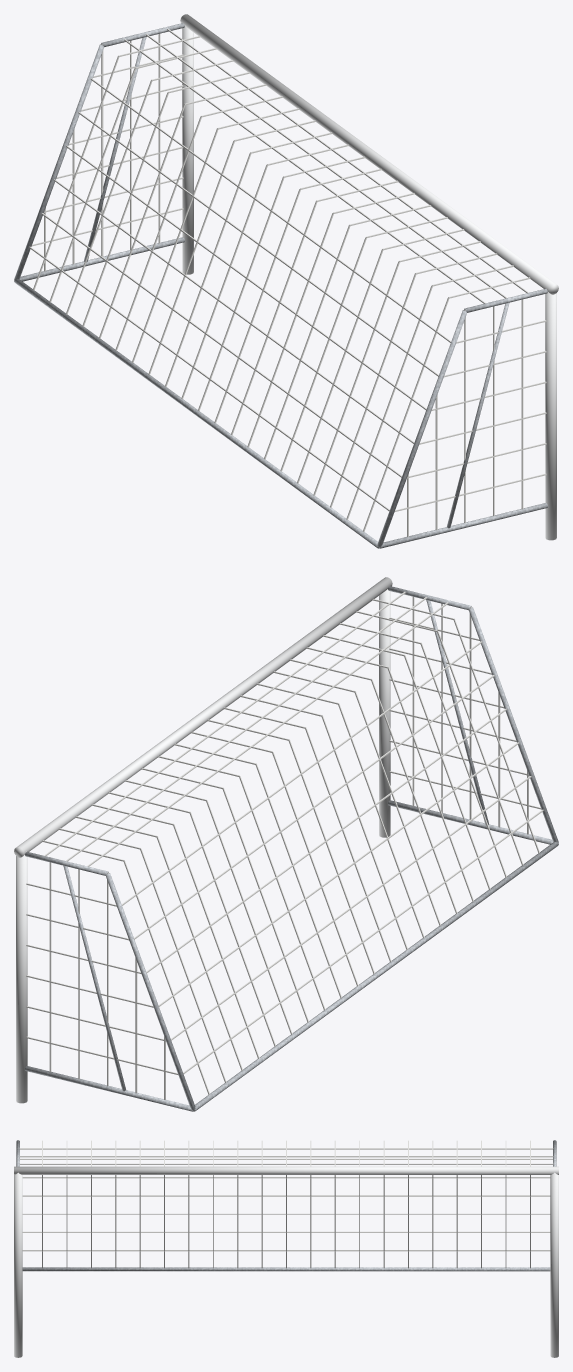
The model's file is soccer_goal_full.glb.
3 renders of one model, top to bottom at view 1: azimuth 30°, elevation 25°; view 2: azimuth 150°, elevation 25°; view 3: azimuth 270°, elevation 25°, orthographic. The views are drawn at different scales.
Parts seen in each view (by area): view 1: soccer_goal_full_net, soccer_goal_full_frame, soccer_goal_full_stanchions; view 2: soccer_goal_full_net, soccer_goal_full_frame, soccer_goal_full_stanchions; view 3: soccer_goal_full_net, soccer_goal_full_frame, soccer_goal_full_stanchions.
Boxes of the visible parts, left/top/right/bottom form: soccer_goal_full_net: left=29, top=28, right=546, bottom=536; soccer_goal_full_frame: left=180, top=14, right=558, bottom=540; soccer_goal_full_stanchions: left=14, top=23, right=547, bottom=548; soccer_goal_full_net: left=26, top=591, right=543, bottom=1099; soccer_goal_full_frame: left=14, top=577, right=392, bottom=1103; soccer_goal_full_stanchions: left=25, top=586, right=558, bottom=1111; soccer_goal_full_net: left=19, top=1140, right=553, bottom=1268; soccer_goal_full_frame: left=14, top=1166, right=558, bottom=1357; soccer_goal_full_stanchions: left=16, top=1140, right=556, bottom=1271.
Size of the model in its own units: 2.09 by 2.85 by 7.44.
3 materials, 1 textured.
